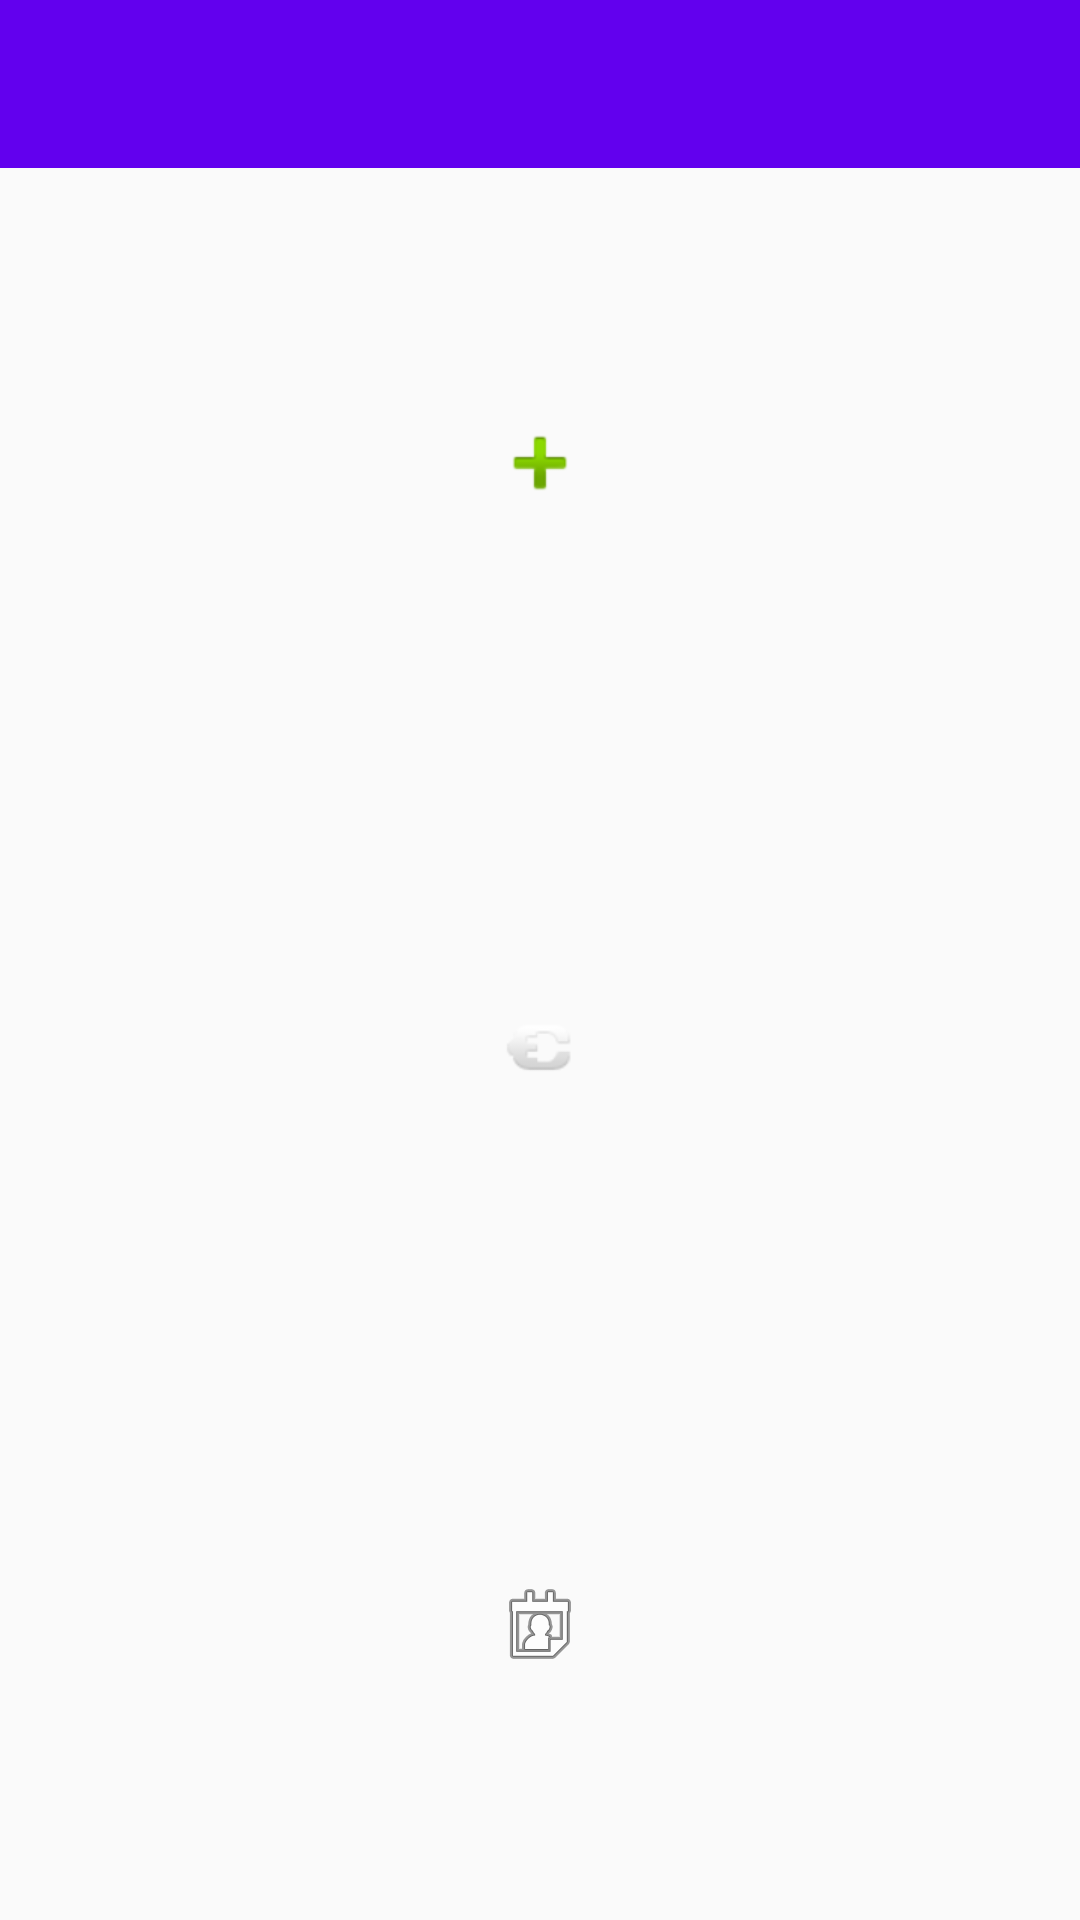

Where icons sit on this 1080px×1920px app screen, as (x1, y1, x2, y2):
Stwórz konto: (513, 436, 567, 490)
